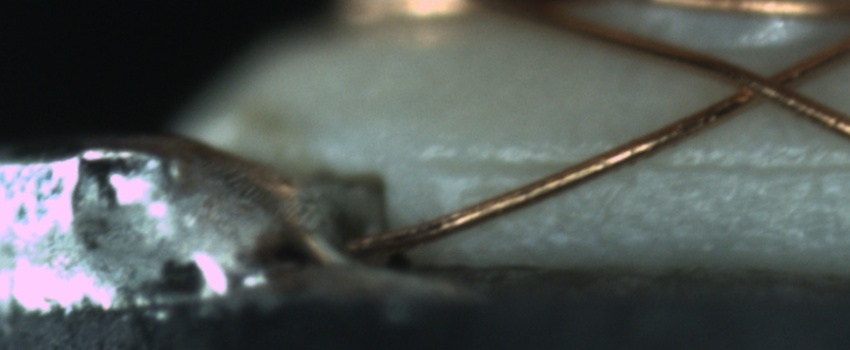CL: (720, 56, 813, 114)
DL: (414, 132, 850, 197)
